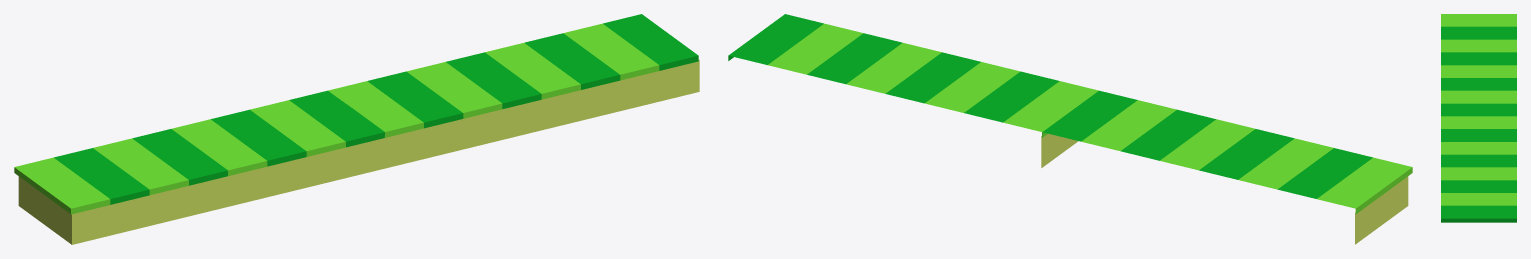
File: groundModel.fbx
The picture shows the model from 3 angles, left to right: view 1: azimuth 30°, elevation 25°; view 2: azimuth 150°, elevation 25°; view 3: azimuth 270°, elevation 25°; orthographic projection. The views are drawn at different scales.
Visible parts, largest first — view 1: Ground; view 2: Ground; view 3: Ground.
Part boxes in pixels (x1=…): Ground: x1=14, y1=14, x2=699, y2=244; Ground: x1=728, y1=14, x2=1412, y2=244; Ground: x1=1441, y1=14, x2=1516, y2=222.
Size of the model in its own units: 4082 by 236 by 638.
